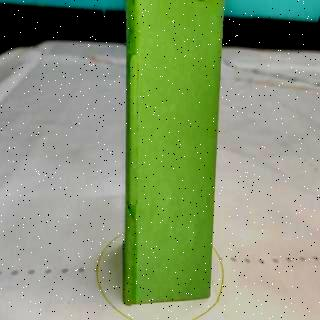greenbox: (124, 1, 225, 302)
